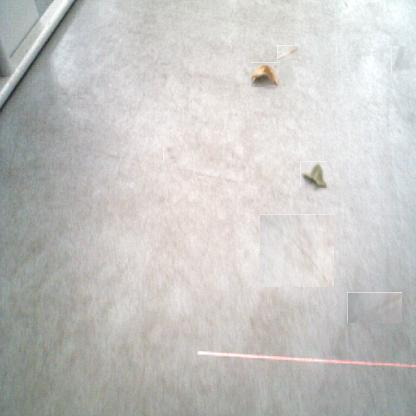dirty: (300, 161, 327, 188), (251, 62, 279, 87), (277, 45, 298, 60)
mark: (260, 214, 334, 287), (347, 292, 402, 323), (391, 46, 410, 74), (162, 146, 179, 163)
